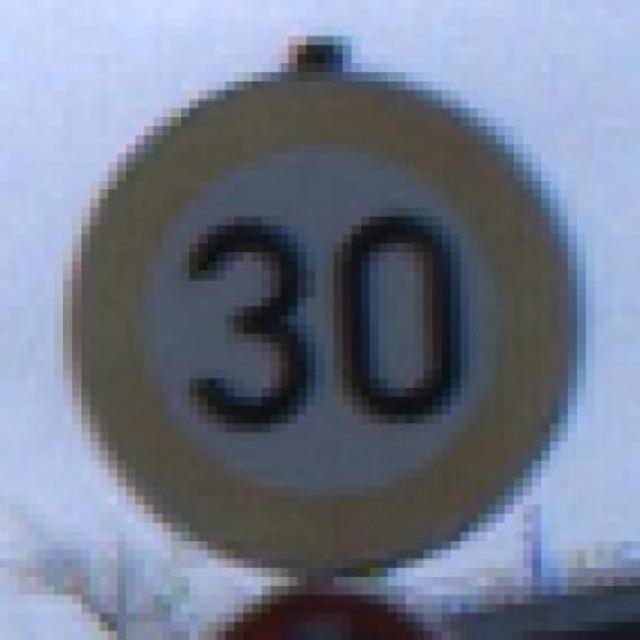Speed Limit 30 KMPh: (27, 63, 622, 586)
